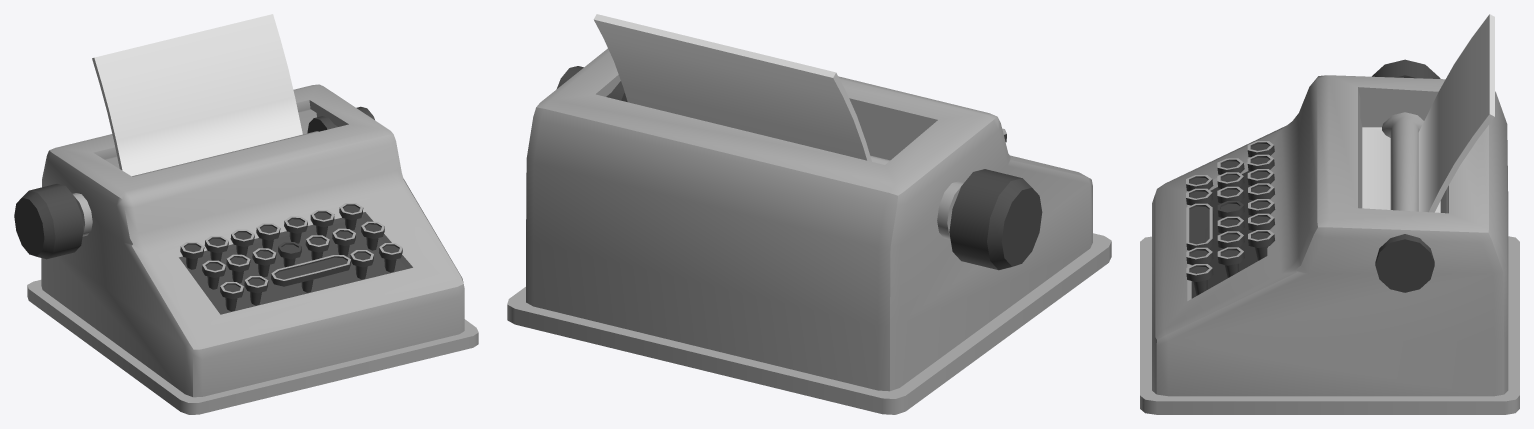
The model's file is Maquina_Escribir.fbx.
The picture shows the model from 3 angles, left to right: view 1: azimuth 30°, elevation 25°; view 2: azimuth 150°, elevation 25°; view 3: azimuth 270°, elevation 25°; orthographic projection. The views are drawn at different scales.
Parts seen in each view (by area): view 1: Maquina_Escribir; view 2: Maquina_Escribir; view 3: Maquina_Escribir.
Part boxes in pixels (x1,y1,x2,y2): Maquina_Escribir: (14,14,478,414); Maquina_Escribir: (507,14,1111,414); Maquina_Escribir: (1140,14,1519,414).
Size of the model in its own units: 67.94 by 44.75 by 57.47.
